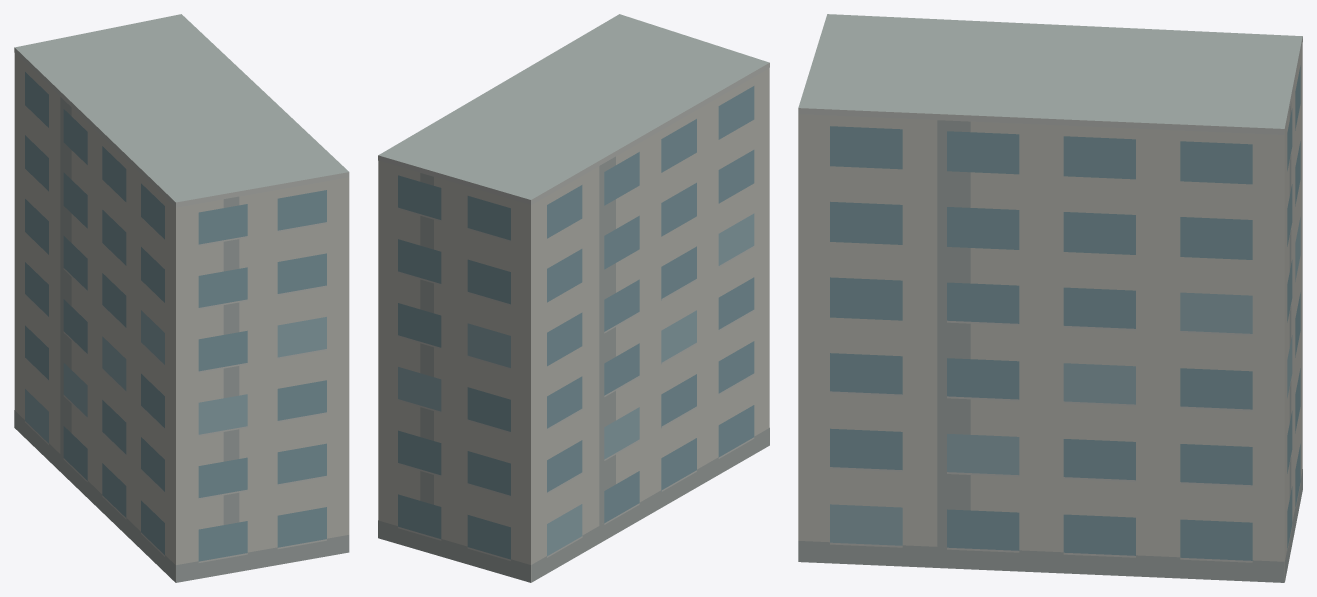
Rendered from survey-upis-32567420.glb.
3 renders of one model, left to right at view 1: azimuth 30°, elevation 25°; view 2: azimuth 150°, elevation 25°; view 3: azimuth 270°, elevation 25°, orthographic. The views are drawn at different scales.
Visible parts, largest first — view 1: survey-upis-32567420.tmp; view 2: survey-upis-32567420.tmp; view 3: survey-upis-32567420.tmp.
Boxes of the visible parts, x1,y1,x2,y2 form: survey-upis-32567420.tmp: (14,14,349,582); survey-upis-32567420.tmp: (378,14,769,582); survey-upis-32567420.tmp: (798,14,1302,582).
Size of the model in its own units: 9.79 by 18 by 18.14.
